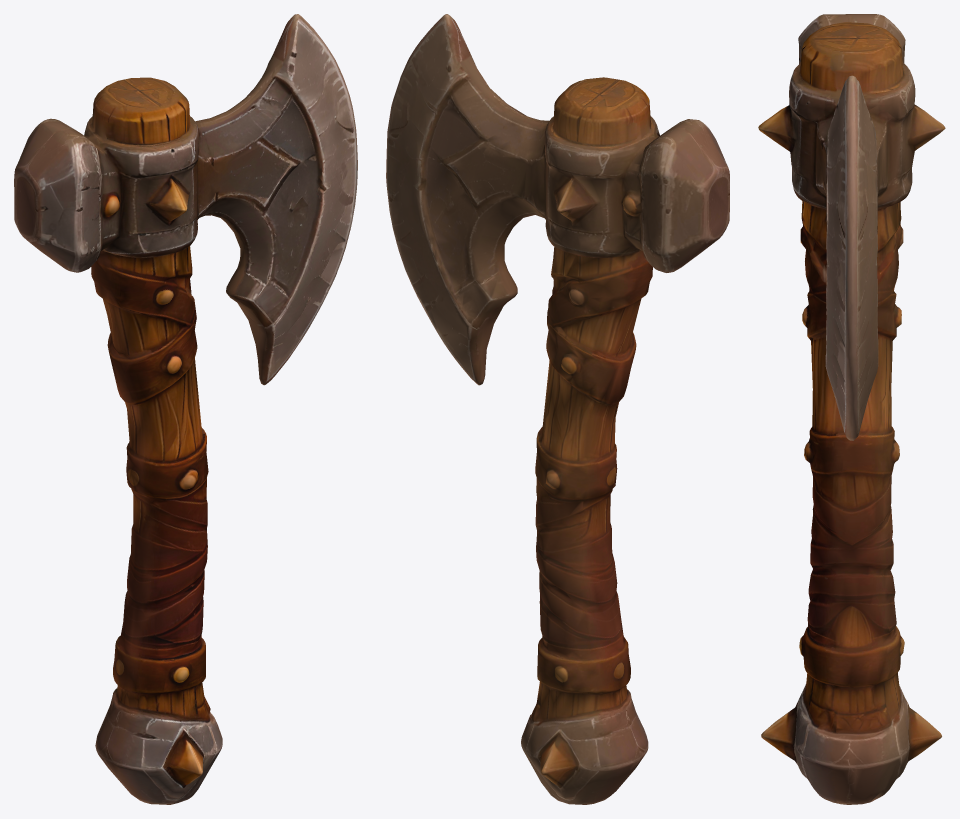
Rendered from axe.glb.
3 renders of one model, left to right at view 1: azimuth 30°, elevation 25°; view 2: azimuth 150°, elevation 25°; view 3: azimuth 270°, elevation 25°, orthographic. The views are drawn at different scales.
Visible parts, largest first — view 1: world; view 2: world; view 3: world.
Part boxes in pixels (x1,y1,x2,y2): world: (14,14,357,804); world: (386,14,729,804); world: (758,14,945,804).
Size of the model in its own units: 0.4624 by 0.9886 by 0.2136.
1 material, 1 textured.
